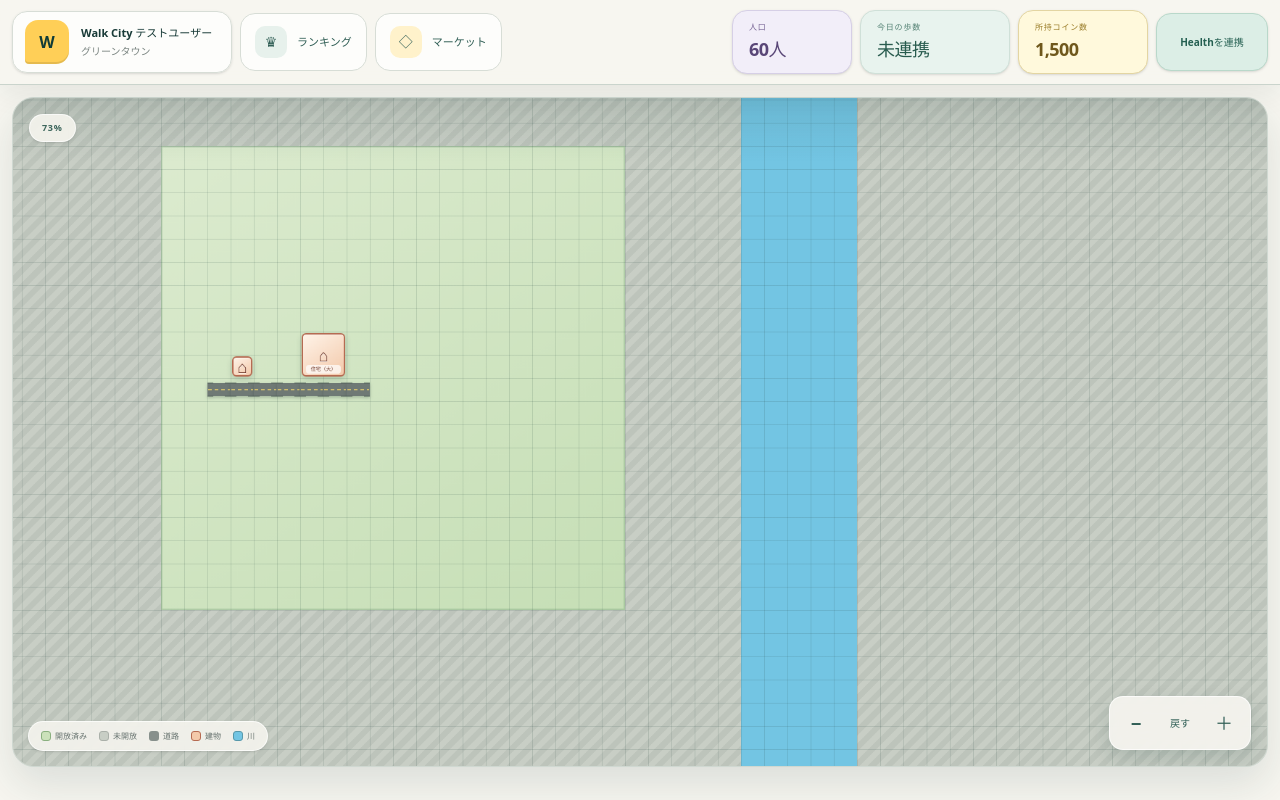
Test case: TownOverview › purchases and unlocks a cardinally adjacent 20 by 20 block
The width and height of the screenshot is (1280, 800).
Expected: the heading "グリーンタウン" is shown, [81,44,150,58]
Click the button "◇ マーケット". click: {"x": 438, "y": 42}
box: [375,13,502,71]
(page scrolled)
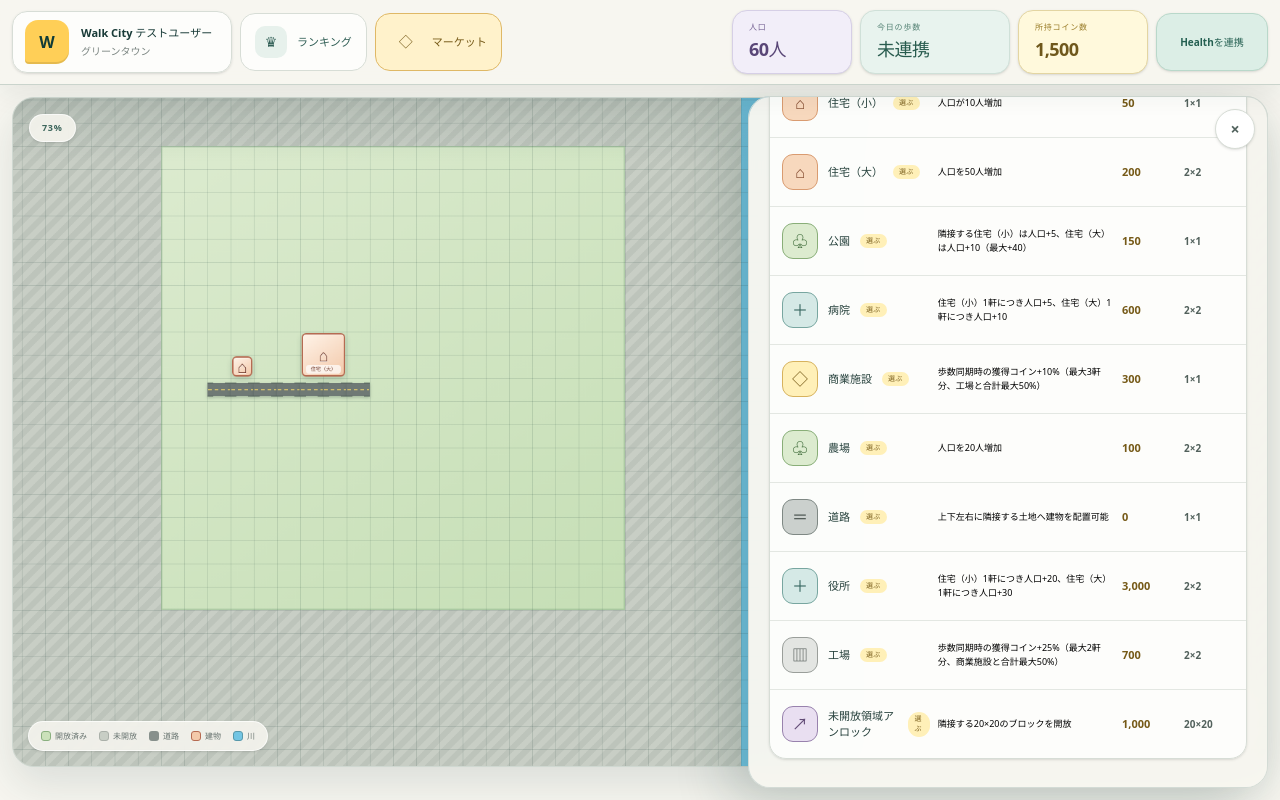
Click the button with aria-label "未開放領域アンロックを選択". click: {"x": 1008, "y": 724}
box: [770,690,1246,758]
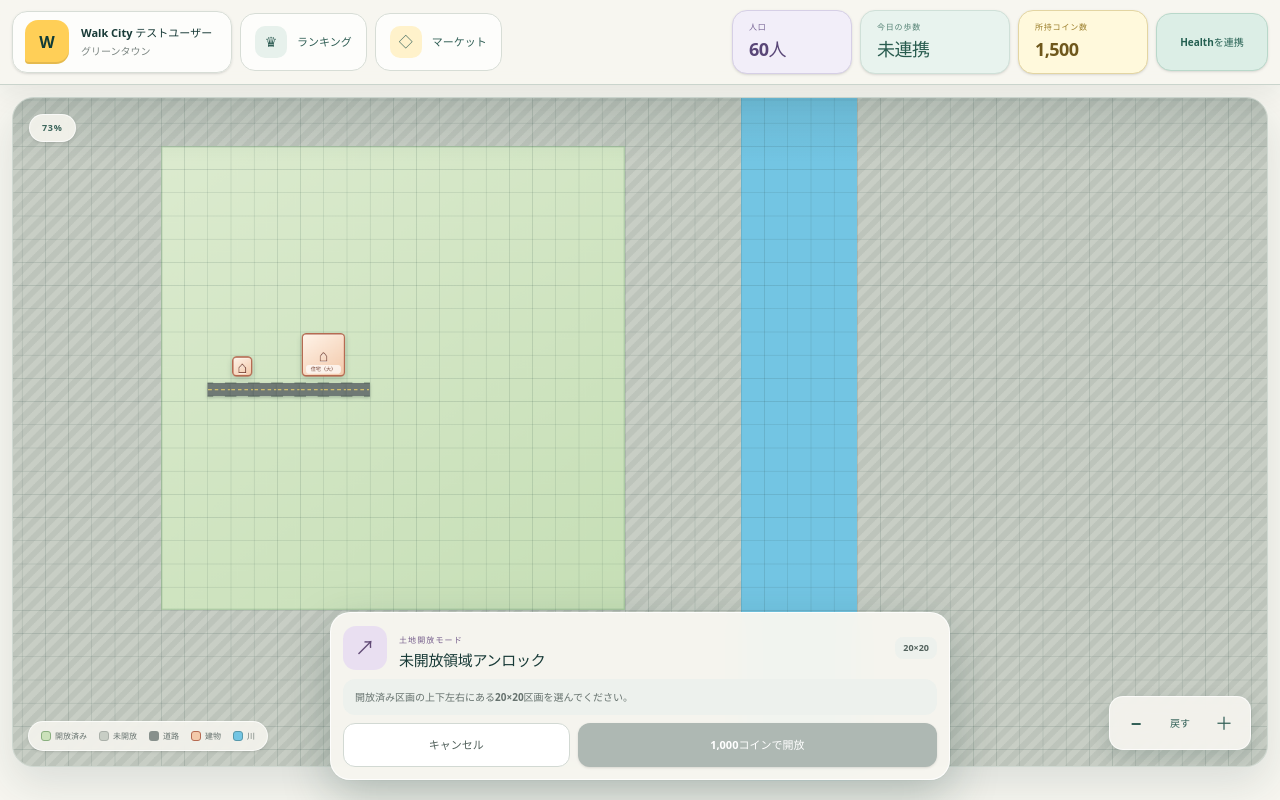
Expected: the heading "未開放領域アンロック" is shown, [399,650,545,670]
Click the element named "グリーンタウンのマップ". click: {"x": 640, "y": 432}
box: [13,98,1267,766]
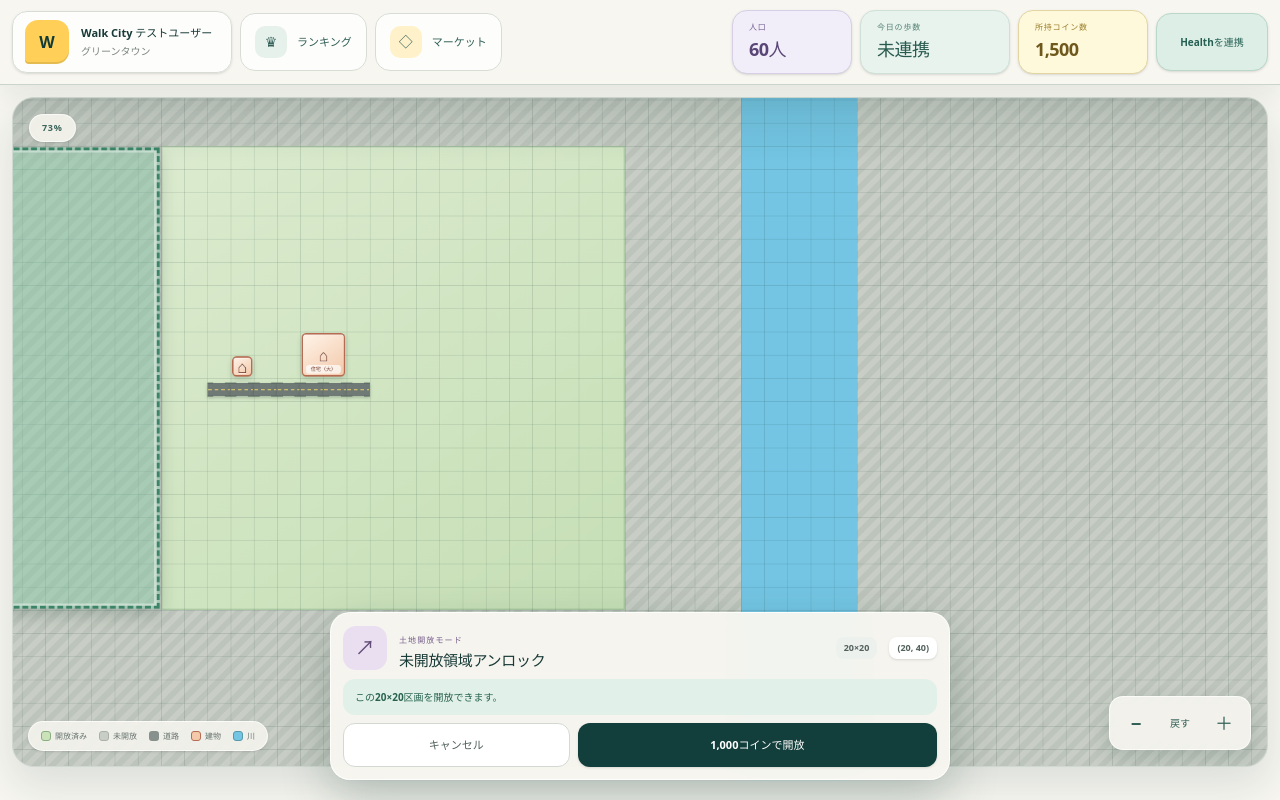
Click the button "1,000コインで開放". click: {"x": 757, "y": 745}
box: [578,723,937,767]
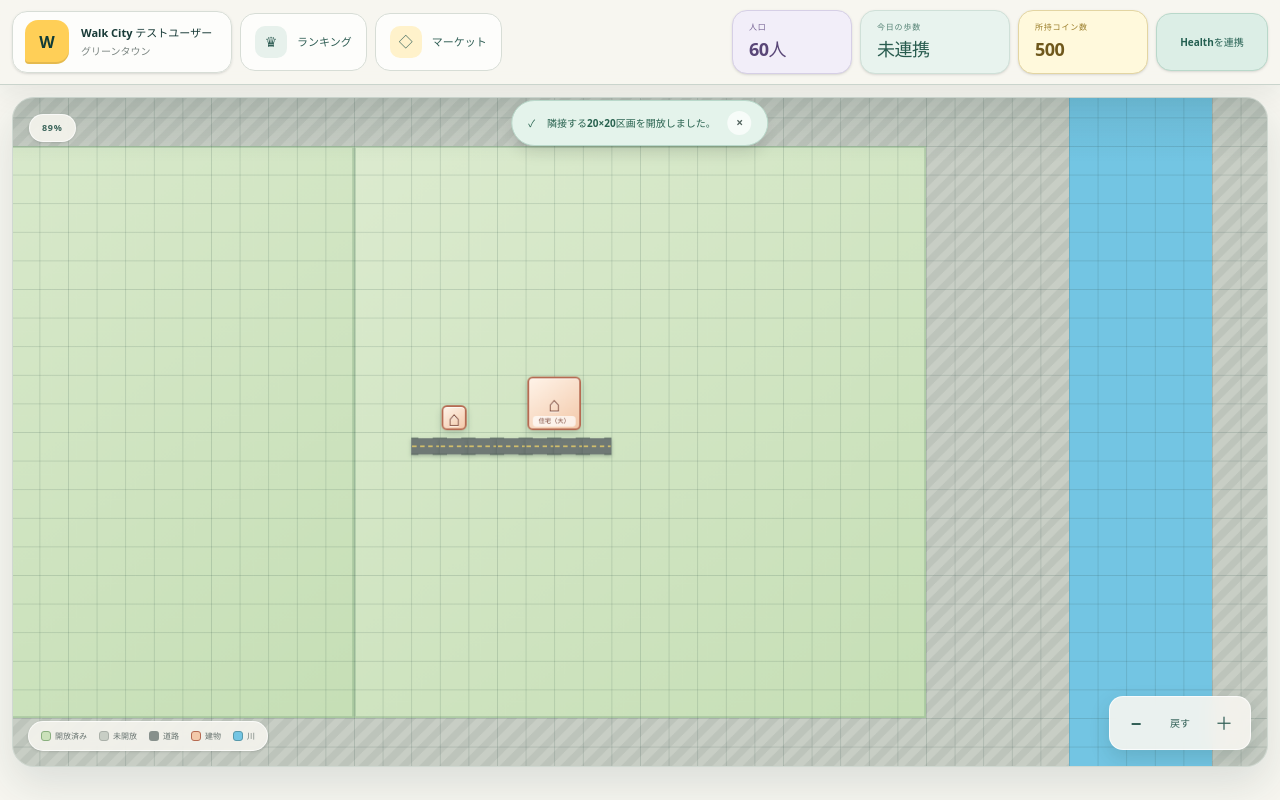
Expected: the text "500" is shown, [1035,37,1064,61]
Expected: the text "隣接する20×20区画を開放しました。" is shown, [547,116,716,130]
